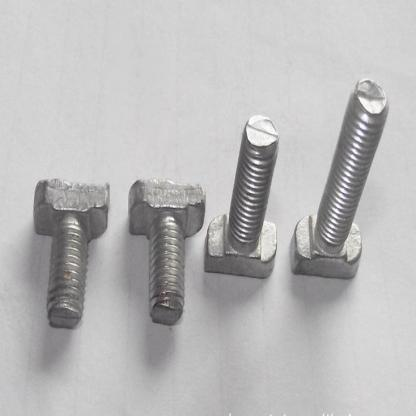FOD: (290, 72, 391, 280), (204, 113, 281, 282), (30, 178, 114, 331), (126, 174, 207, 328)
